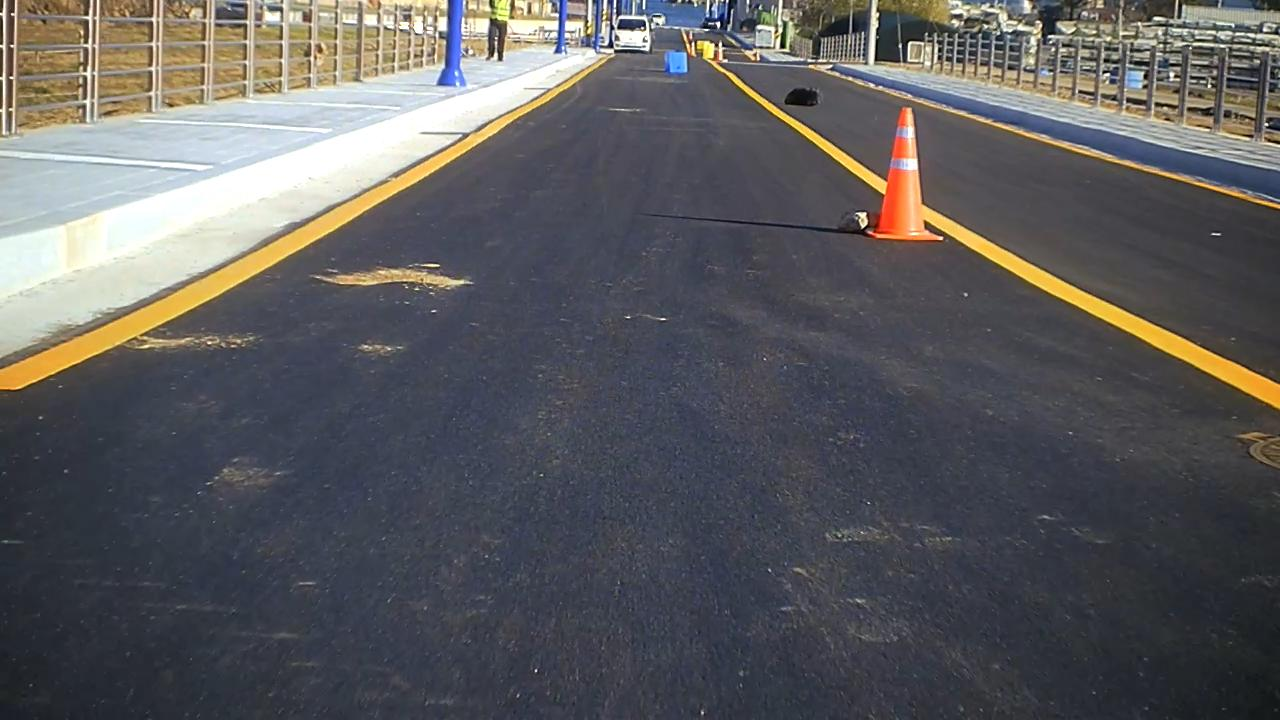banner: (784, 85, 824, 109), (837, 209, 869, 234)
